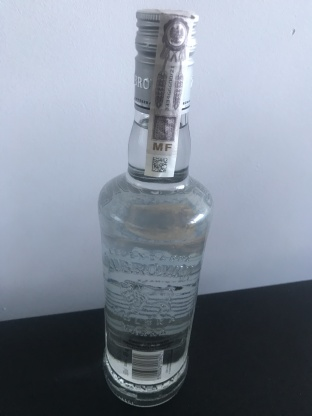nakretka: (129, 3, 201, 117), (130, 5, 201, 117)
